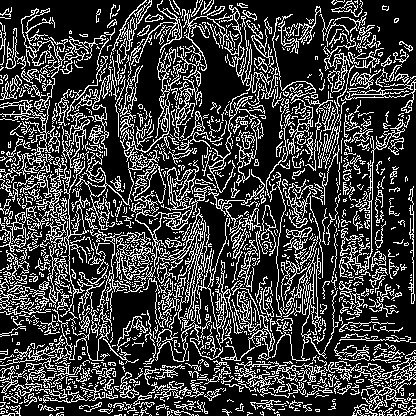buddha-standing: (72, 200, 184, 325)
